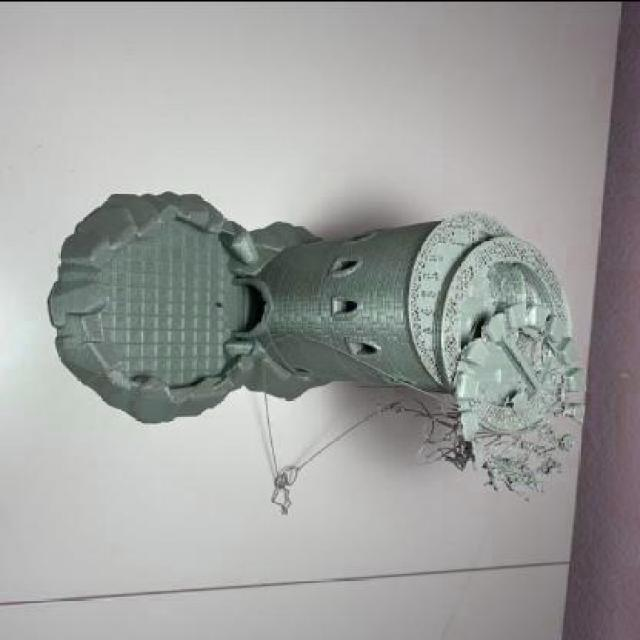spaghetti: (376, 392, 582, 494), (264, 334, 432, 392), (510, 326, 567, 388), (486, 258, 511, 302)
